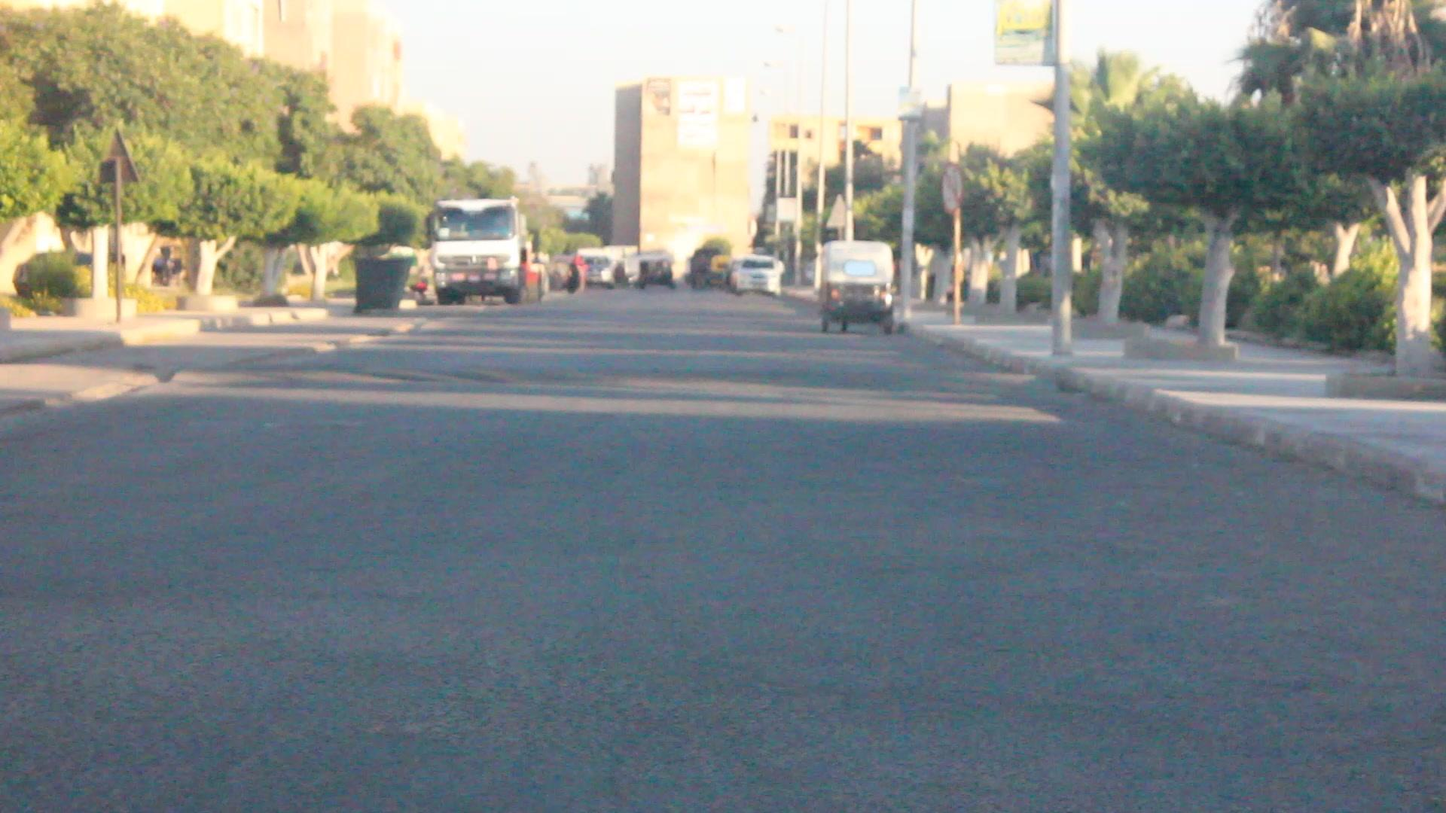Bump: (168, 361, 1070, 396)
